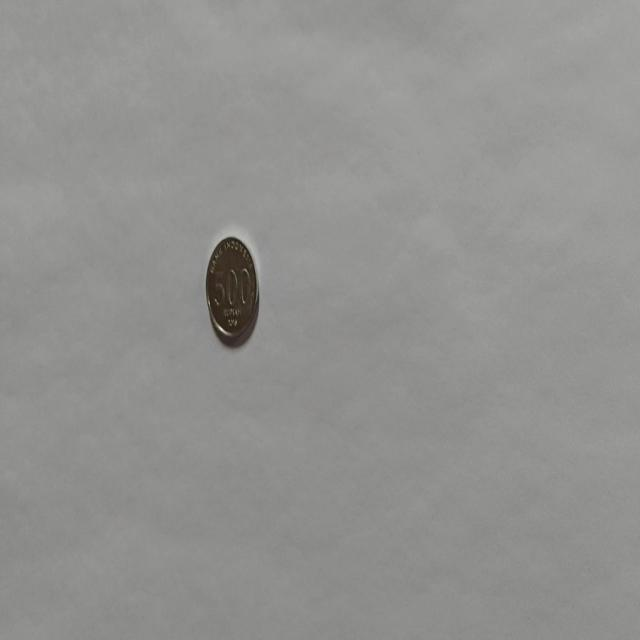lima ratus rupiah: (204, 234, 260, 345)
